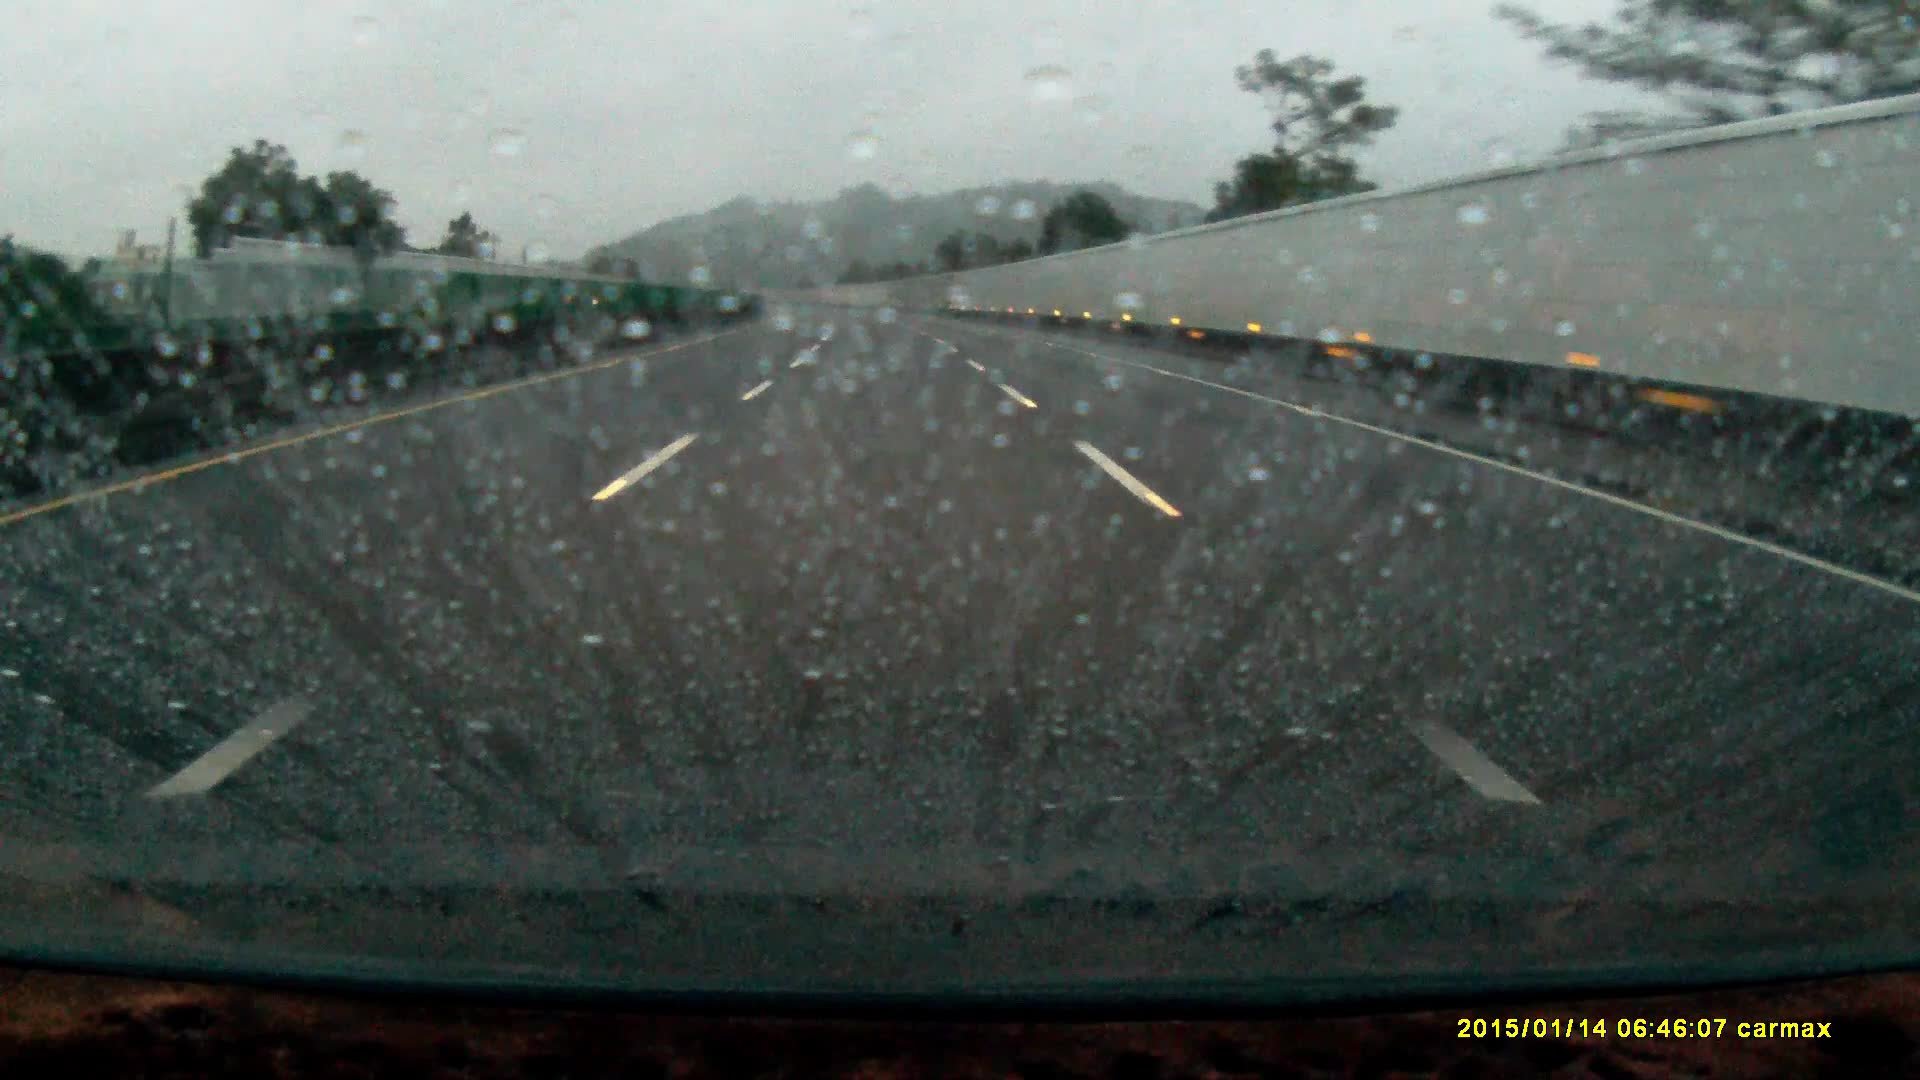vehicle: (409, 291, 485, 330)
